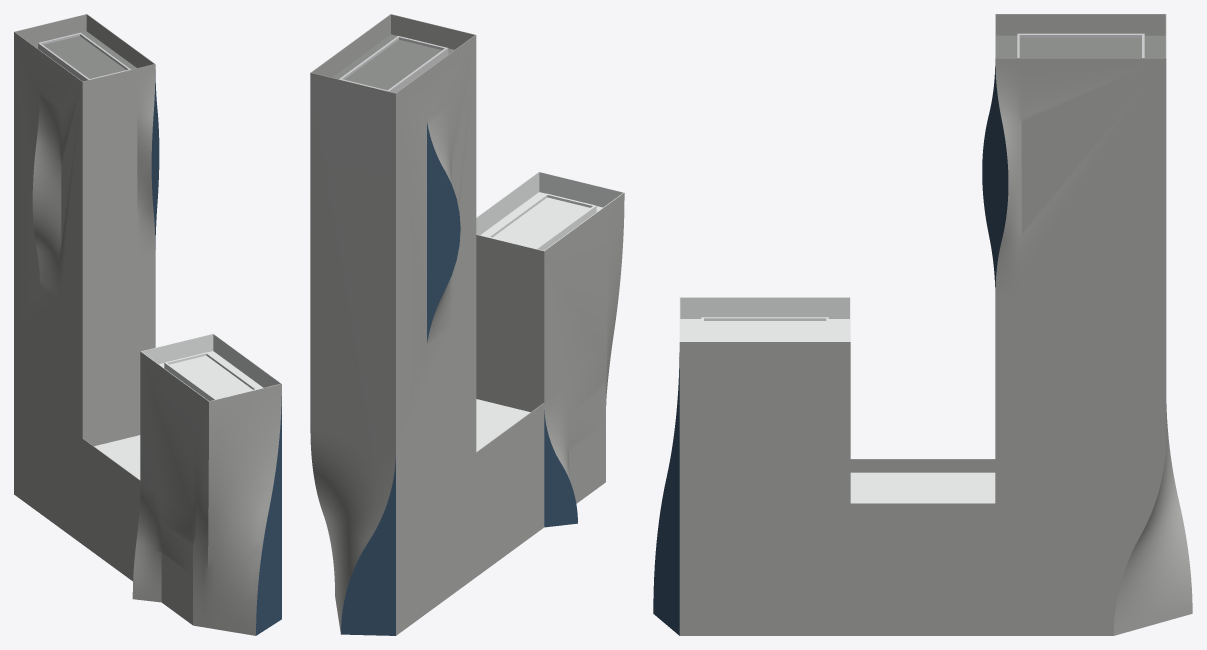
File: international_energy_headquarters_51b371ce.glb
3 renders of one model, left to right at view 1: azimuth 30°, elevation 25°; view 2: azimuth 150°, elevation 25°; view 3: azimuth 270°, elevation 25°, orthographic. The views are drawn at different scales.
Parts seen in each view (by area): view 1: international_energy_headquarters_51b371ce; view 2: international_energy_headquarters_51b371ce; view 3: international_energy_headquarters_51b371ce.
Boxes of the visible parts, x1=… form: international_energy_headquarters_51b371ce: x1=14, y1=14, x2=281, y2=635; international_energy_headquarters_51b371ce: x1=310, y1=14, x2=624, y2=635; international_energy_headquarters_51b371ce: x1=653, y1=14, x2=1192, y2=635.
Size of the model in its own units: 49.5 by 218 by 184.
Materials: 1 (1 with a texture image).
